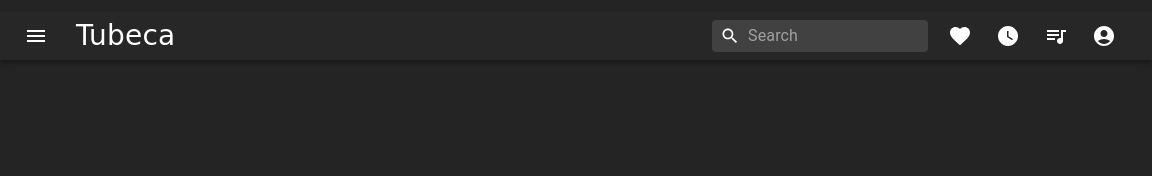
Test case: Header › account menu › closes menu when logout is clicked
Click the button named "account": (1104, 36) [1080,12,1128,60]
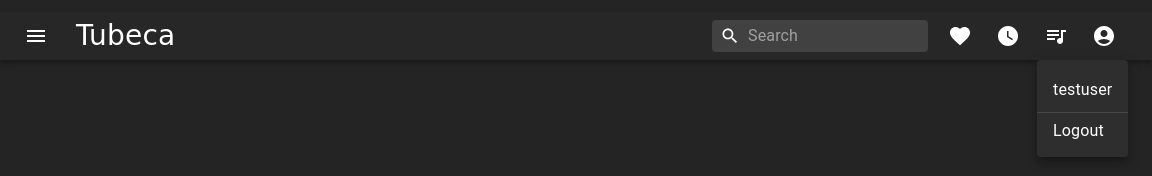
Click the menu item "Logout": (1078, 130) [1053,121,1104,140]
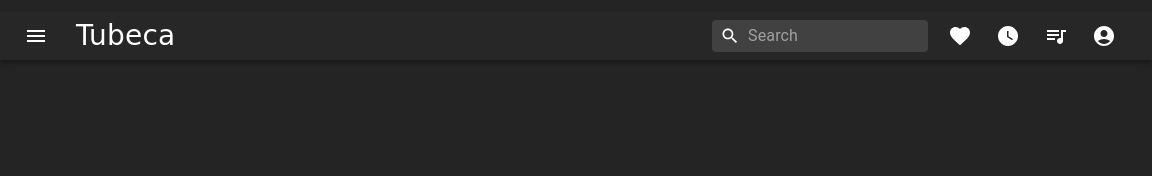
Now the menu item "Logout" is gone
